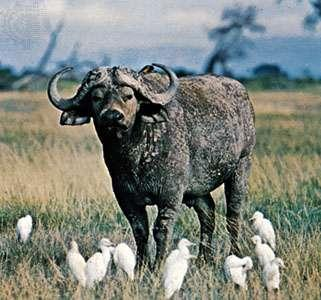Buffalo: (35, 26, 279, 231)
